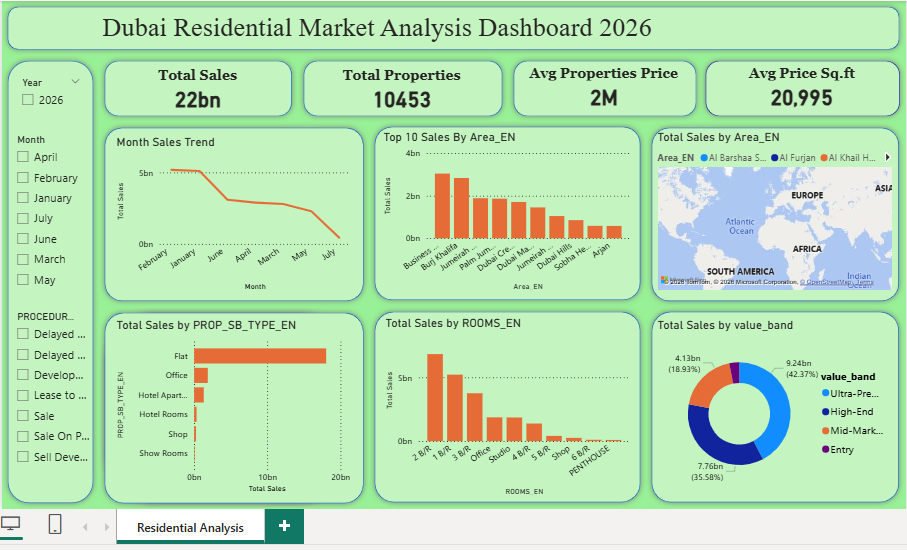

Layout of this report page (visuals, bound fields, positions):
{"tool":"powerbi","page":{"name":"Residential Analysis","canvas":[1280,720],"ordinal":0},"visuals":[{"type":"shape","box":[419,76.9,297.9,94.9],"z":0},{"type":"card","title":"Total Properties","fields":{"Values":["dubai_residential_data_2026.Total Properties"]},"box":[446.9,93.3,240.6,67.1],"z":1000},{"type":"shape","box":[0,0,1280,76.9],"z":2000},{"type":"shape","box":[137.5,76.9,281.5,94.9],"z":3000},{"type":"shape","box":[0,76.9,137.5,643.3],"z":4000},{"type":"shape","box":[988.6,76.9,291.4,94.9],"z":5000},{"type":"shape","box":[716.9,76.9,275,94.9],"z":6000},{"type":"card","title":"Total Sales","fields":{"Values":["dubai_residential_data_2026.Total Sales"]},"box":[157.1,93.3,240.6,67.1],"z":7000},{"type":"card","title":"Avg Properties Price","fields":{"Values":["dubai_residential_data_2026.Average Properties Price"]},"box":[733.3,90,240.6,67.1],"z":8000},{"type":"card","title":"Avg Price Sq.ft","fields":{"Values":["dubai_residential_data_2026.Average Price/sqft"]},"box":[1013.2,90,240.6,67.1],"z":9000},{"type":"shape","box":[137.5,171.9,383,261.9],"z":10000},{"type":"shape","box":[913.4,171.9,366.6,261.9],"z":11000},{"type":"shape","box":[137.5,433.8,361.7,286.4],"z":12000},{"type":"shape","box":[137.5,433.8,383,286.4],"z":13000},{"type":"shape","box":[913.4,432.1,366.6,286.4],"z":14000},{"type":"shape","box":[520.5,432.1,392.8,286.4],"z":15000},{"type":"shape","box":[520.5,170.2,392.8,261.9],"z":16000},{"type":"clusteredBarChart","fields":{"Category":["dubai_residential_data_2026.PROP_SB_TYPE_EN"],"Y":["dubai_residential_data_2026.Total Sales"]},"box":[157.3,449.3,341.6,252.3],"z":17000},{"type":"lineChart","title":"Month Sales Trend","fields":{"Y":["dubai_residential_data_2026.Total Sales"],"Category":["Calender.Month"]},"box":[157.3,189.9,341.6,225.4],"z":18000},{"type":"clusteredColumnChart","title":"Top 10 Sales By Area_EN","fields":{"Category":["dubai_residential_data_2026.Area_EN"],"Y":["dubai_residential_data_2026.Total Sales"]},"box":[535.7,182.8,358.6,232.4],"z":19000},{"type":"donutChart","fields":{"Category":["dubai_residential_data_2026.value_band"],"Y":["dubai_residential_data_2026.Total Sales"]},"box":[924.1,449.3,341.6,252.3],"z":20000},{"type":"columnChart","fields":{"Category":["dubai_residential_data_2026.ROOMS_EN"],"Y":["dubai_residential_data_2026.Total Sales"]},"box":[538.6,446.5,355.7,259.4],"z":21000},{"type":"slicer","fields":{"Values":["dubai_residential_data_2026.PROCEDURE_EN"]},"box":[8.5,433.7,121.9,248],"z":22000},{"type":"slicer","fields":{"Values":["Calender.Month"]},"box":[8.5,182.8,114.8,232.4],"z":23000},{"type":"filledMap","fields":{"Series":["dubai_residential_data_2026.Area_EN"]},"box":[924.1,182.8,341.6,232.4],"z":24000},{"type":"slicer","fields":{"Values":["Calender.Year"]},"box":[15.6,102,107.7,69.4],"z":25000},{"type":"textbox","box":[137.5,9.9,1142.4,56.7],"z":26000}]}

Visuals, with their boxes in screenshot pixels (x1, y1, x2, y2):
shape: bbox=[300, 58, 508, 125]
"Total Properties" card: bbox=[319, 70, 488, 117]
shape: bbox=[7, 5, 902, 58]
shape: bbox=[103, 58, 300, 125]
shape: bbox=[7, 58, 103, 508]
shape: bbox=[698, 58, 902, 125]
shape: bbox=[508, 58, 700, 125]
"Total Sales" card: bbox=[117, 70, 285, 117]
"Avg Properties Price" card: bbox=[520, 68, 688, 115]
"Avg Price Sq.ft" card: bbox=[715, 68, 883, 115]
shape: bbox=[103, 125, 371, 308]
shape: bbox=[645, 125, 902, 308]
shape: bbox=[103, 308, 356, 508]
shape: bbox=[103, 308, 371, 508]
shape: bbox=[645, 307, 902, 507]
shape: bbox=[371, 307, 645, 507]
shape: bbox=[371, 124, 645, 307]
clusteredBarChart - dubai_residential_data_2026.PROP_SB_TYPE_EN x dubai_residential_data_2026.Total Sales: bbox=[117, 319, 356, 495]
"Month Sales Trend" lineChart: bbox=[117, 137, 356, 295]
"Top 10 Sales By Area_EN" clusteredColumnChart: bbox=[381, 132, 632, 295]
donutChart - dubai_residential_data_2026.value_band x dubai_residential_data_2026.Total Sales: bbox=[653, 319, 892, 495]
columnChart - dubai_residential_data_2026.ROOMS_EN x dubai_residential_data_2026.Total Sales: bbox=[383, 317, 632, 498]
slicer - dubai_residential_data_2026.PROCEDURE_EN: bbox=[13, 308, 98, 481]
slicer - Calender.Month: bbox=[13, 132, 93, 295]
filledMap - dubai_residential_data_2026.Area_EN: bbox=[653, 132, 892, 295]
slicer - Calender.Year: bbox=[18, 76, 93, 124]
textbox: bbox=[103, 12, 901, 51]
